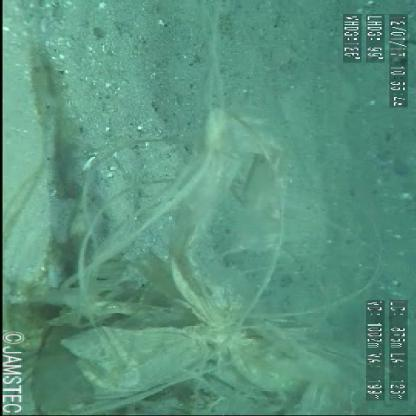Rác: (25, 34, 325, 416)
